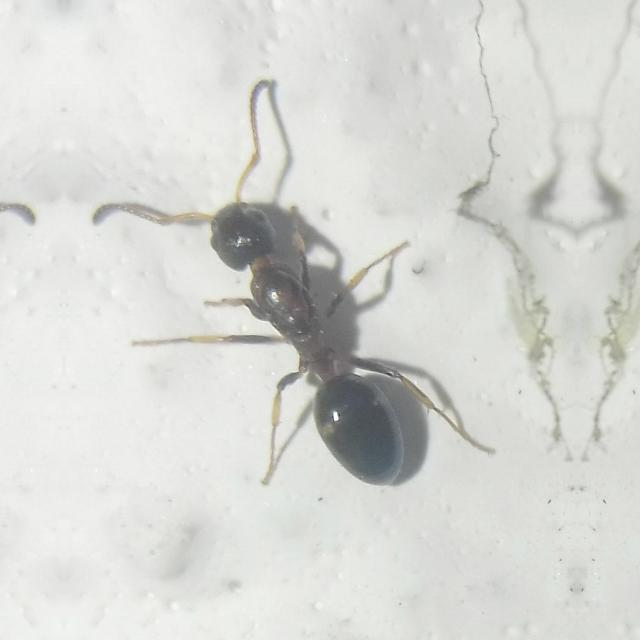Dolichoderus: (151, 124, 459, 528)
